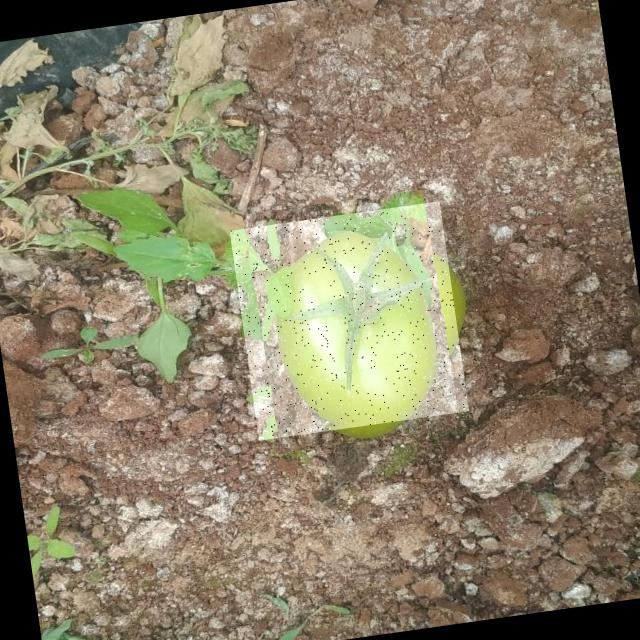Unripe Tomato: (230, 202, 469, 440)
